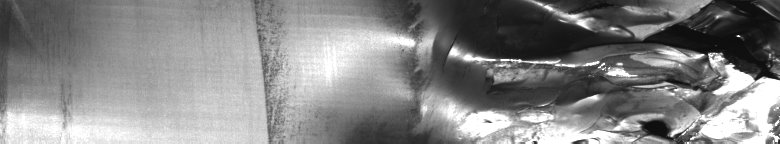ke: (396, 4, 776, 136)
